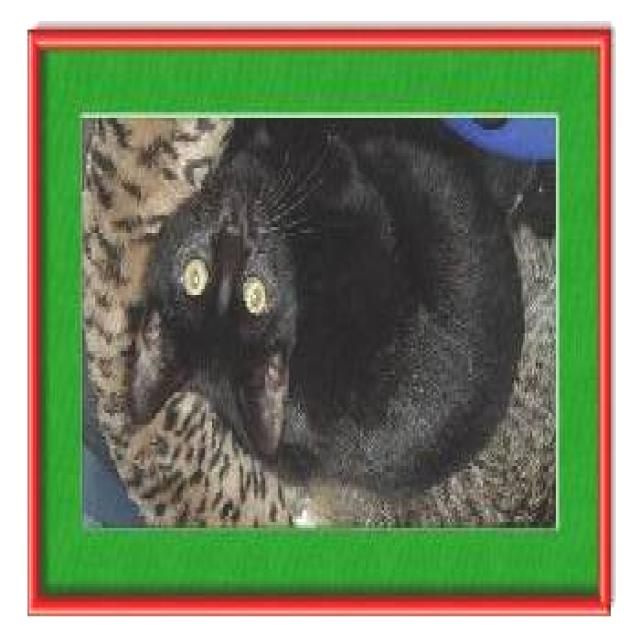Kucing: (83, 119, 549, 486)
